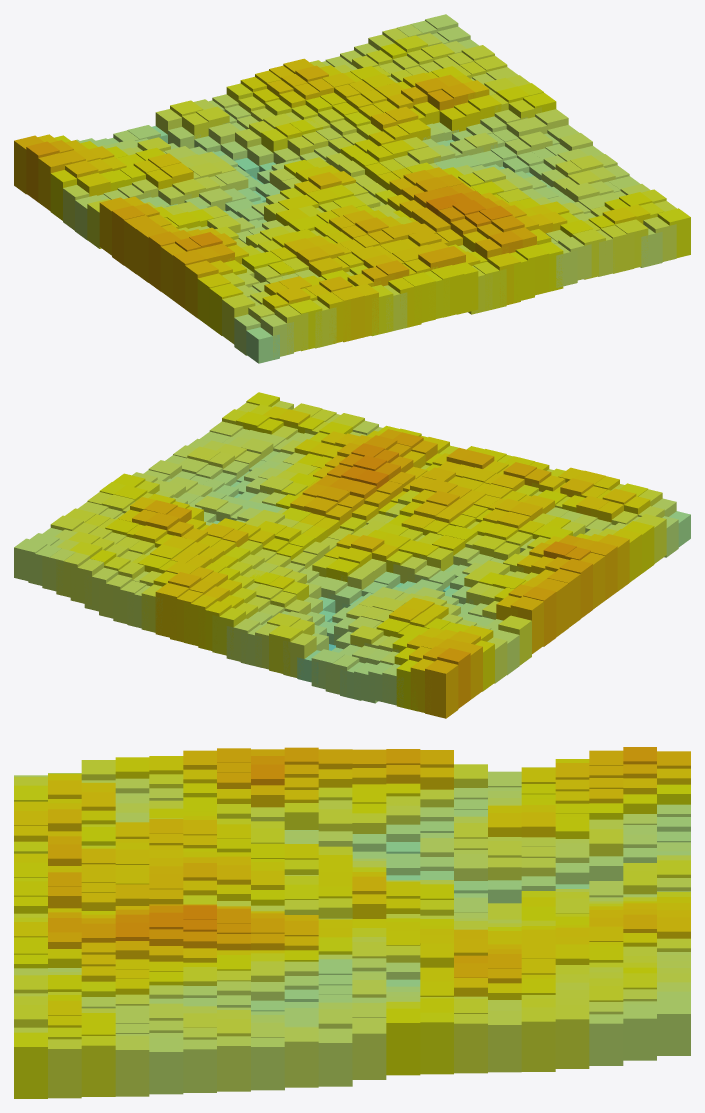
File: population.glb
3 views of the same model, one above another, from view 1: azimuth 30°, elevation 25°; view 2: azimuth 150°, elevation 25°; view 3: azimuth 270°, elevation 25° (orthographic). The views are drawn at different scales.
Parts seen in each view (by area): view 1: population; view 2: population; view 3: population.
Part boxes in pixels (x1,y1,x2,y2): population: (14, 14, 690, 363); population: (14, 392, 690, 718); population: (14, 747, 690, 1098).
Bounding box in the file's own units: 2037 × 310 × 1998.
